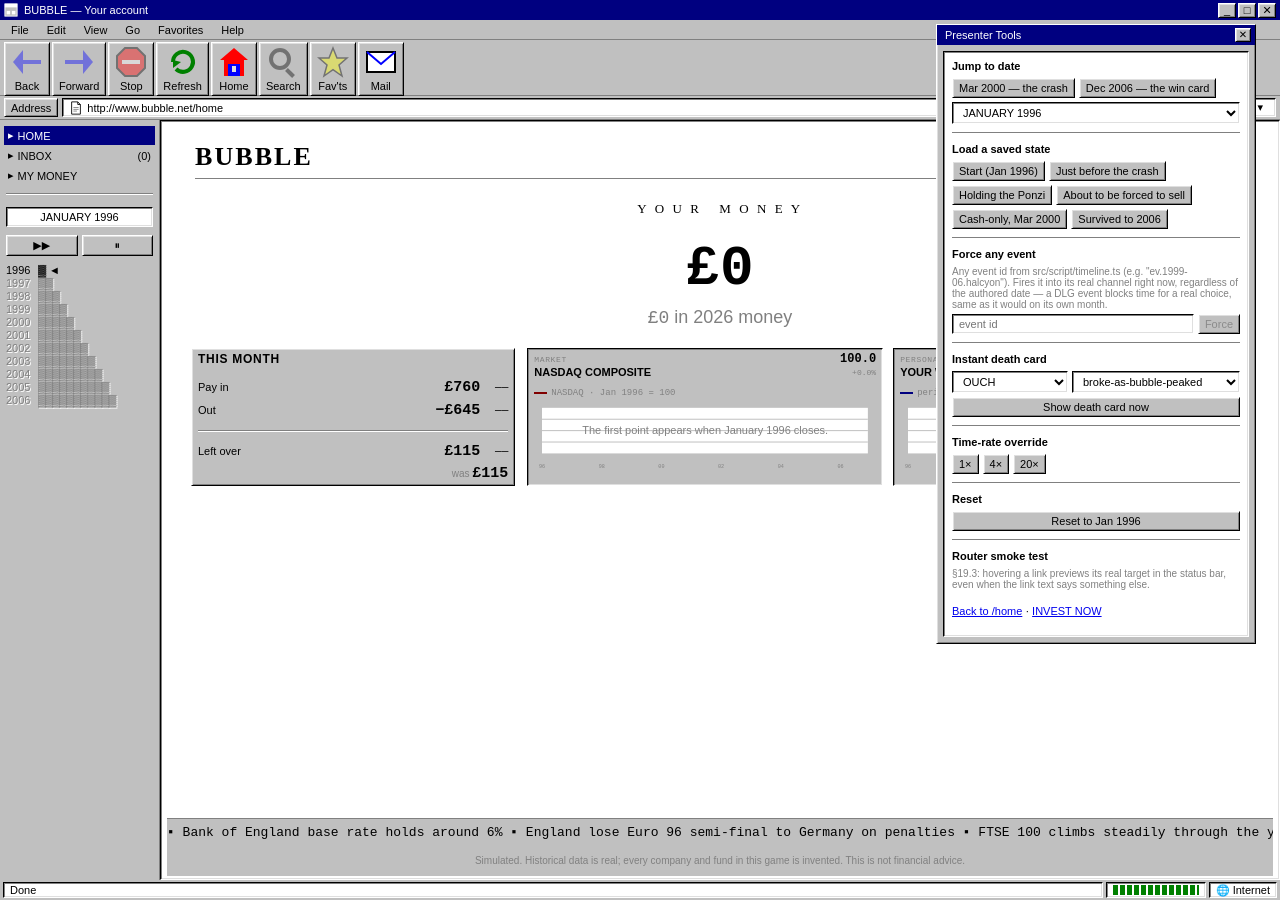
Test: §25.5 — the demo path, beat by beat, driven through the real AppShell › Dec 2006 — the death card renders with a genuine (non-zero) tracker fee line, and [ Run it again ] resets to Jan 1996
Step 1. Click the button with class "bevel-out" showing "Survived to 2006" → (1120, 219), box [1071,209,1168,229]
(page scrolled)
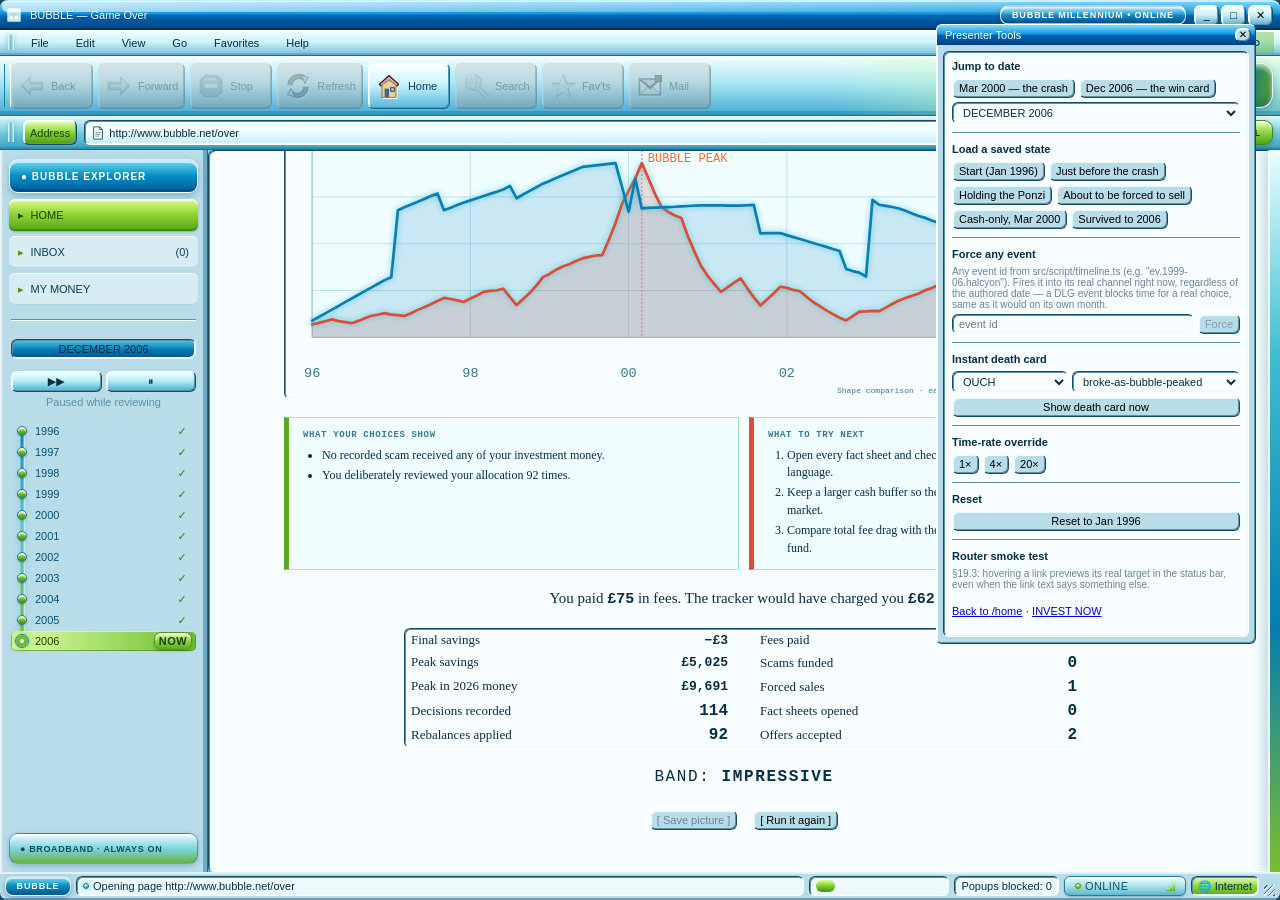
Now the element with class "deathcard-page" is shown
Now the text with class "deathcard-page" no longer shows "NaN"
Now the element with class "deathcard-fees" reads "You paid £75 in fees. The tracker would have charged you £62 .", box [550,590,938,608]
Step 2. Click the button "[ Run it again ]" → (796, 820), box [753,810,838,830]
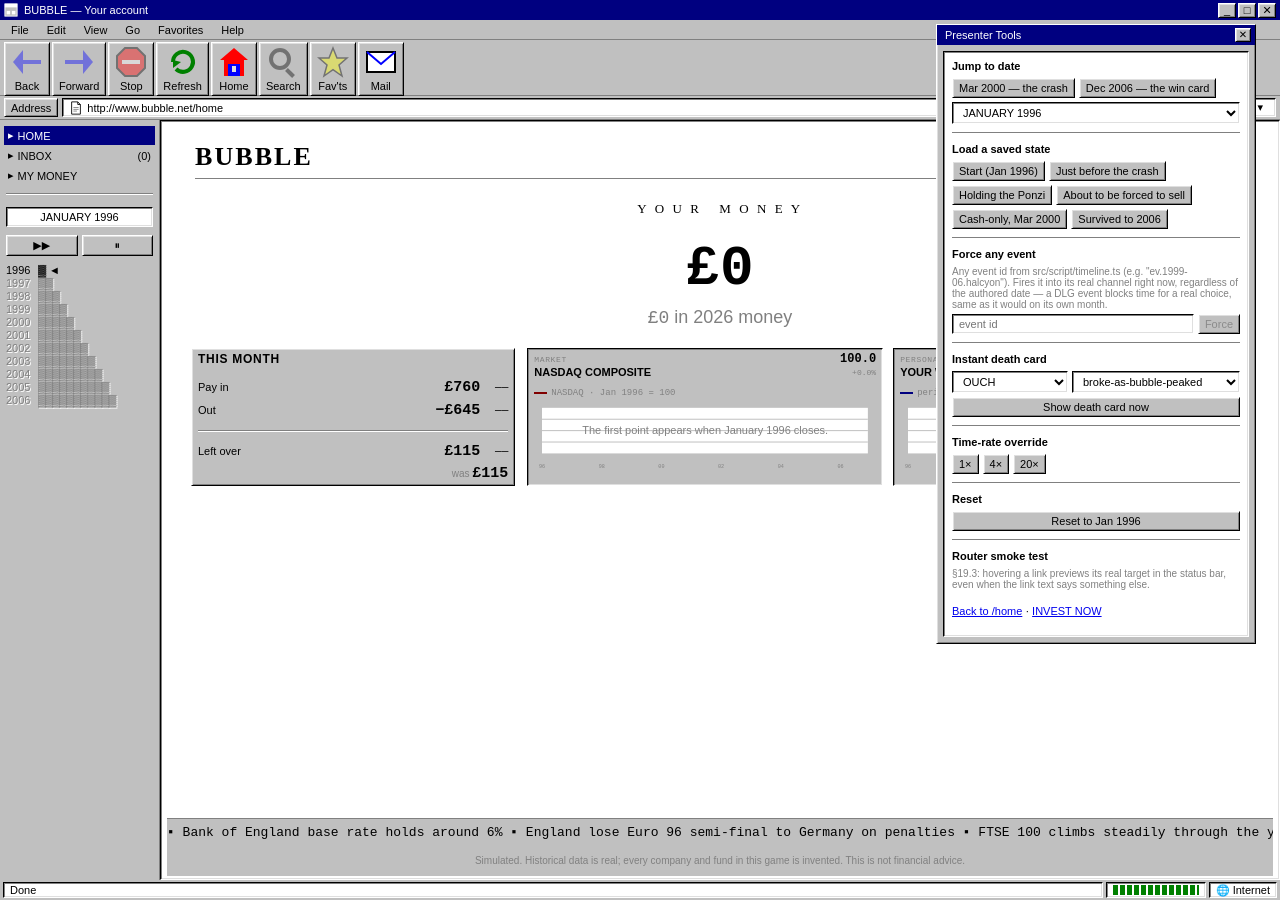
Expected: the button "Back" is disabled, [4,42,50,96]
Now the text with class "comet-titlebar__title" reads "BUBBLE — Your account", box [24,4,148,16]
Now the text with class "comet-addressbar__url" reads "http://www.bubble.net/home", box [87,102,223,114]
